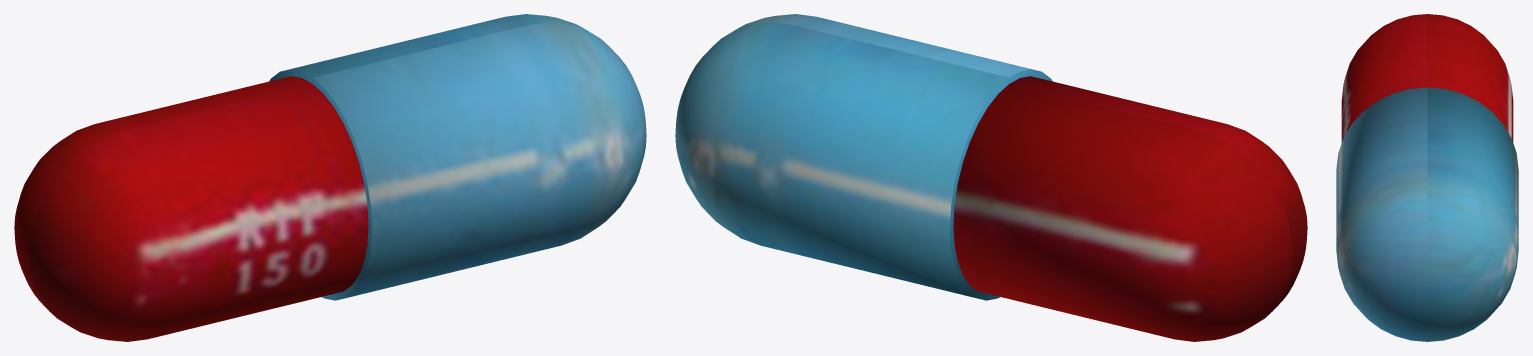
The model's file is 20140311GOPHDRGPT02379.fbx.
The picture shows the model from 3 angles, left to right: view 1: azimuth 30°, elevation 25°; view 2: azimuth 150°, elevation 25°; view 3: azimuth 270°, elevation 25°; orthographic projection. The views are drawn at different scales.
Visible parts, largest first — view 1: 球體.024; view 2: 球體.024; view 3: 球體.024.
Part boxes in pixels (x1,y1,x2,y2): 球體.024: (14, 14, 646, 341); 球體.024: (675, 14, 1307, 341); 球體.024: (1336, 14, 1518, 341).
Size of the model in its own units: 1.69 by 0.5747 by 0.5747.
1 material, 1 textured.
